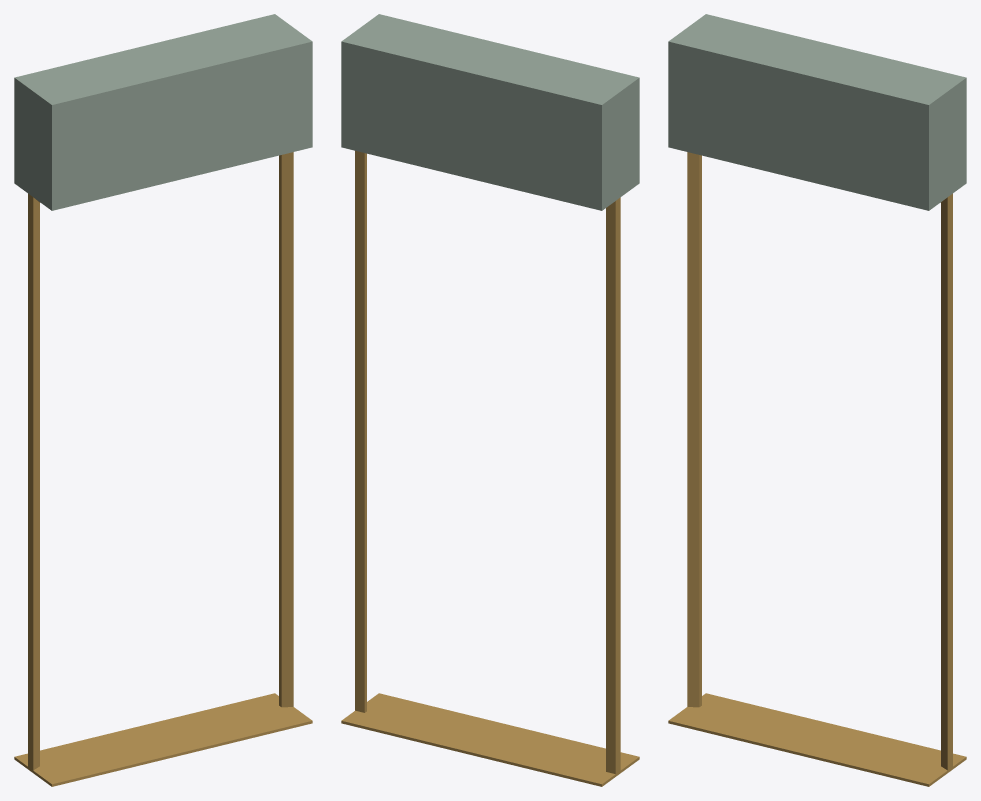
File: elevator_entrance_01.fbx
3 views of the same model, side by side, from view 1: azimuth 30°, elevation 25°; view 2: azimuth 150°, elevation 25°; view 3: azimuth 330°, elevation 25° (orthographic).
Visible parts, largest first — view 1: pPlane793; view 2: pPlane793; view 3: pPlane793.
Boxes of the visible parts, <box> form: pPlane793: <box>14,14,312,786</box>; pPlane793: <box>341,14,639,786</box>; pPlane793: <box>668,14,966,786</box>.
Size of the model in its own units: 100 by 250 by 25.
